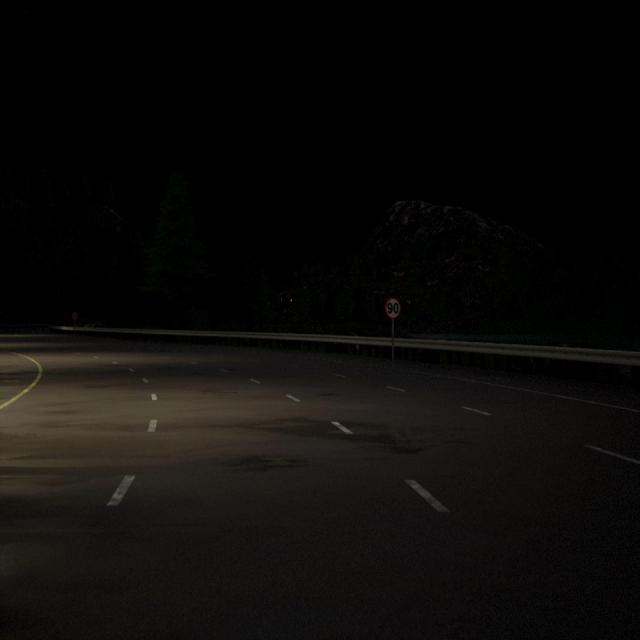Traffic_Signs: (385, 298, 401, 318), (72, 313, 77, 319)
